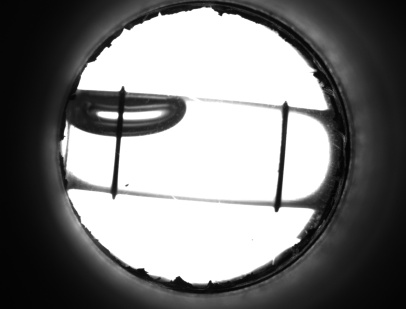line: (273, 119, 291, 194), (108, 141, 123, 183)
